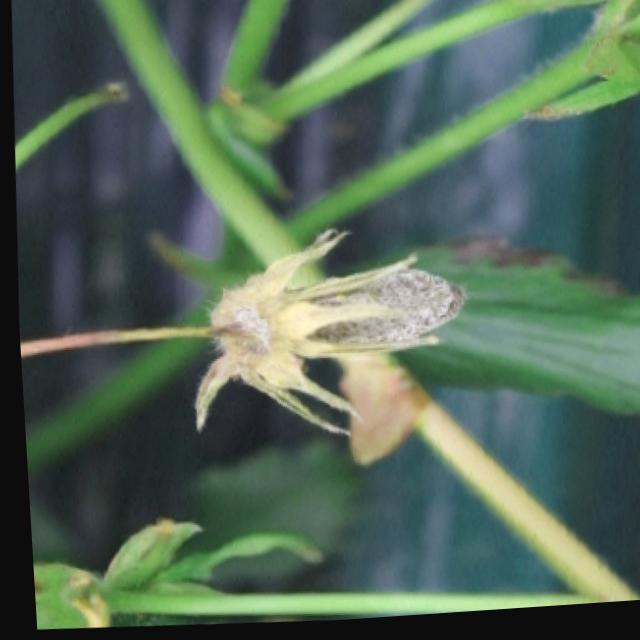Gray Mold: (163, 229, 462, 439)
